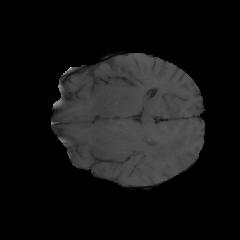glioma: (128, 128, 188, 162)
